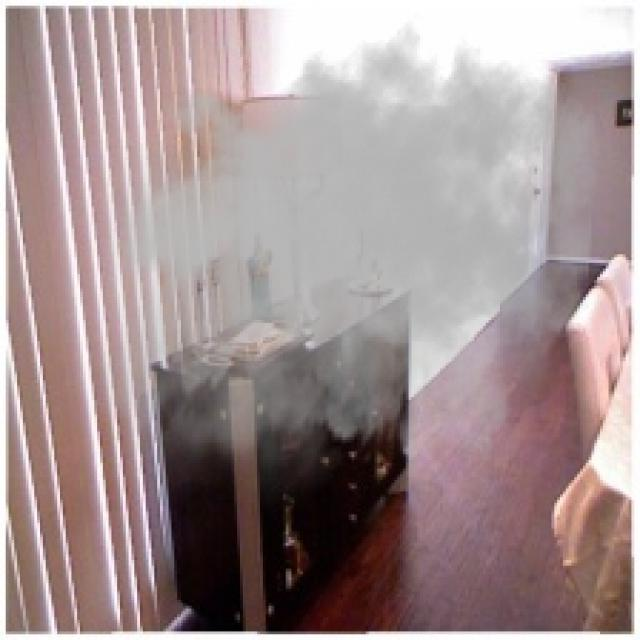smoke: (74, 6, 603, 523)
